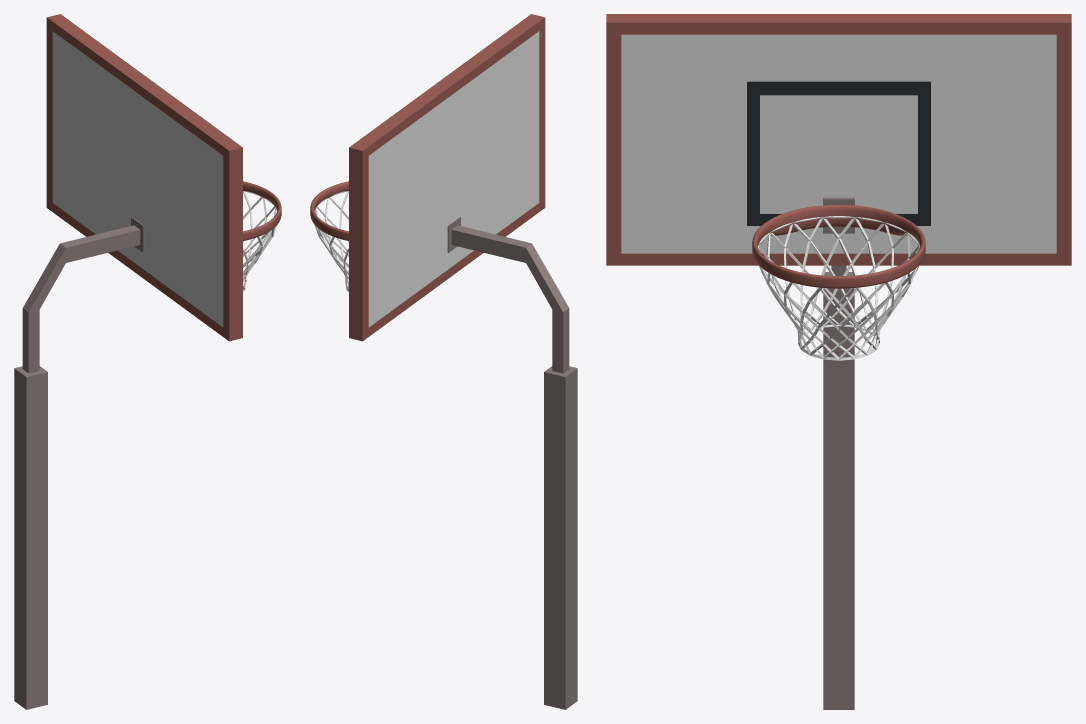
Rendered from BOARD.fbx.
3 renders of one model, left to right at view 1: azimuth 30°, elevation 25°; view 2: azimuth 150°, elevation 25°; view 3: azimuth 270°, elevation 25°, orthographic. The views are drawn at different scales.
Parts seen in each view (by area): view 1: board, Basketball_Stand1, Basketball_Net, Basketball_Stand; view 2: board, Basketball_Stand1, Basketball_Net, Basketball_Stand; view 3: board, Basketball_Stand1, Basketball_Net, Basketball_Stand.
Boxes of the visible parts, x1,y1,x2,y2 form: board: (46, 14, 242, 341); Basketball_Stand1: (14, 217, 144, 709); Basketball_Net: (243, 191, 277, 291); Basketball_Stand: (243, 181, 281, 240); board: (349, 14, 545, 341); Basketball_Stand1: (447, 217, 577, 709); Basketball_Net: (314, 191, 348, 291); Basketball_Stand: (310, 181, 348, 240); board: (606, 14, 1071, 265); Basketball_Stand1: (823, 197, 854, 709); Basketball_Net: (758, 216, 919, 360); Basketball_Stand: (752, 205, 925, 288).
Bounding box in the file's own units: 6.37 × 14.29 × 7.98.
